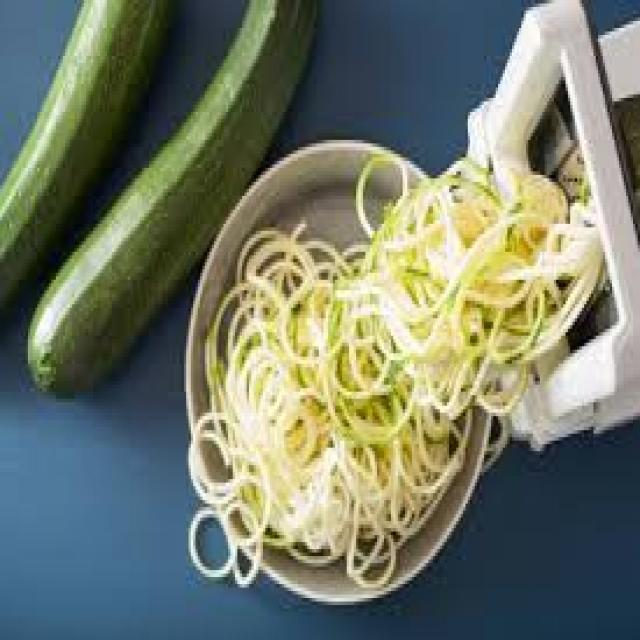organic waste: (23, 0, 314, 395), (0, 0, 175, 325), (345, 147, 470, 479), (410, 143, 530, 410), (238, 210, 402, 402), (203, 286, 342, 476), (274, 374, 460, 504), (210, 392, 338, 570), (477, 171, 605, 343), (296, 465, 421, 588), (179, 416, 268, 546), (186, 504, 263, 577)
